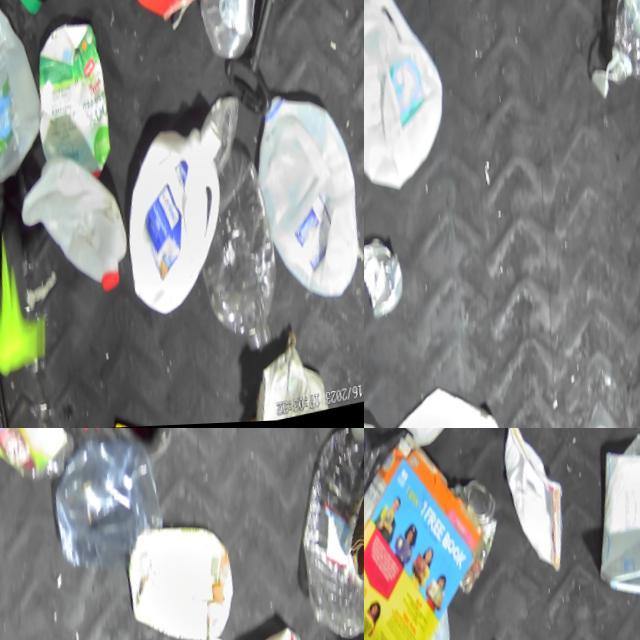milk_jug: (113, 115, 261, 324), (245, 80, 364, 314), (13, 142, 148, 310), (364, 0, 469, 208), (123, 517, 260, 640), (0, 0, 67, 193)
plastic_bottle: (188, 160, 307, 368), (281, 428, 364, 640), (579, 0, 640, 100)
